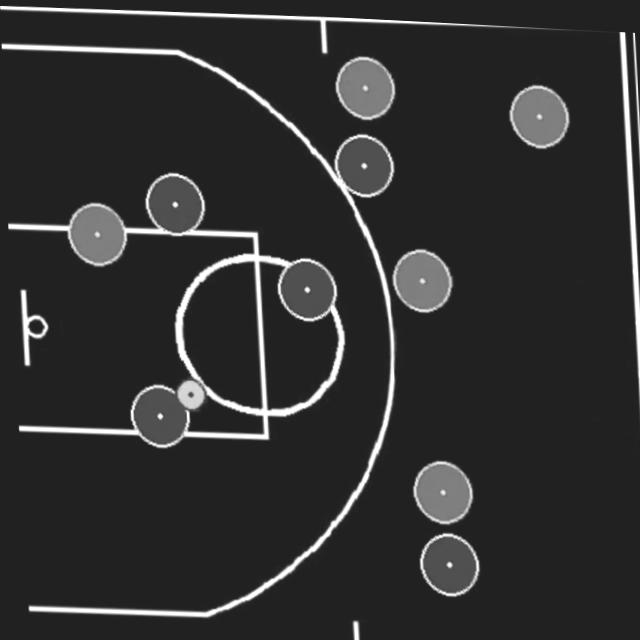Basketball: (172, 377, 202, 408)
Team_A: (413, 526, 476, 593), (143, 169, 204, 235), (331, 128, 392, 194), (125, 382, 186, 447), (274, 254, 334, 319)
Team_B: (388, 243, 451, 310), (506, 77, 569, 144), (407, 454, 469, 521), (63, 201, 126, 266), (333, 51, 393, 116)
